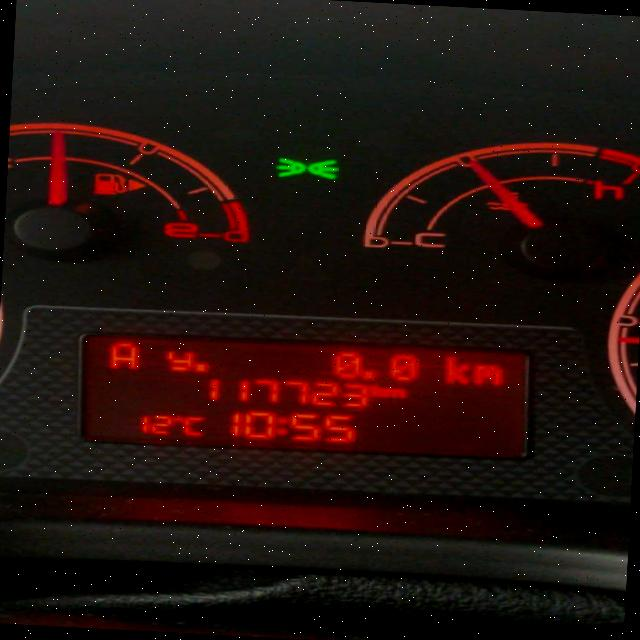odometer: (72, 323, 540, 468)
